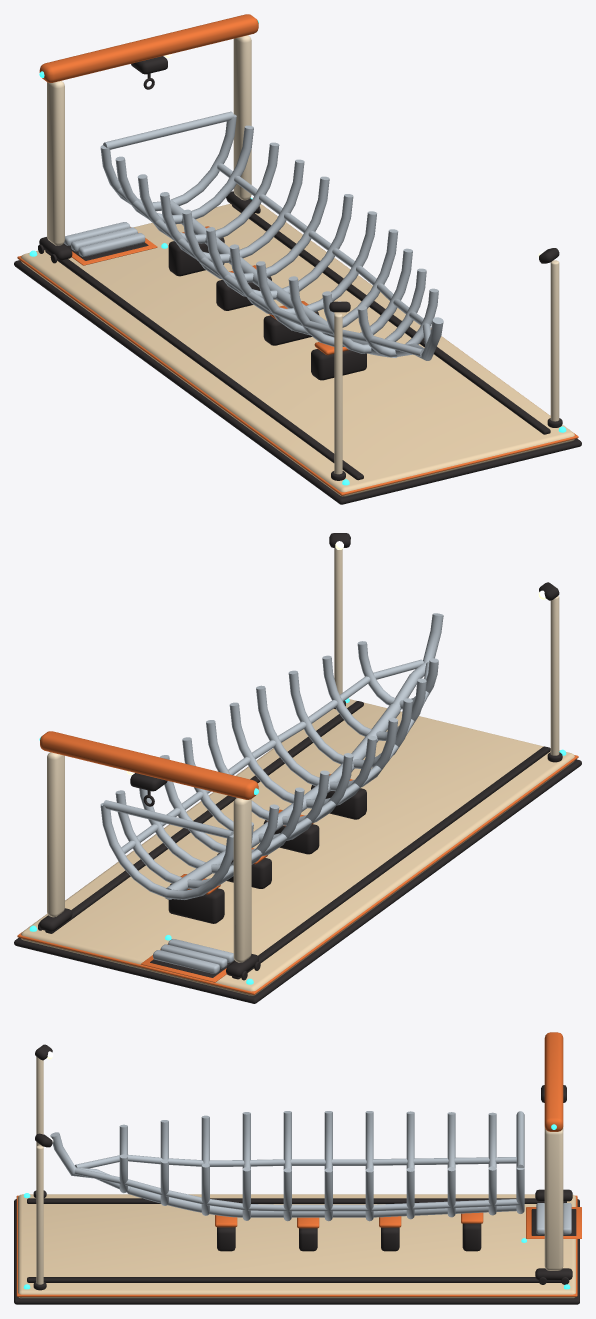
Rendered from dock-3.glb.
3 views of the same model, one above another, from view 1: azimuth 30°, elevation 25°; view 2: azimuth 150°, elevation 25°; view 3: azimuth 270°, elevation 25° (orthographic). The views are drawn at different scales.
Visible parts, largest first — view 1: Cube.001, Cube.021, Cube, Cube.016, Cube.002; view 2: Cube.001, Cube.021, Cube, Cube.016, Cube.002; view 3: Cube.001, Cube.021, Cube, Cube.002, Cube.016.
Part boxes in pixels (x1,y1,x2,y2): Cube.001: (21,203,574,496); Cube.021: (64,111,443,360); Cube: (14,56,581,504); Cube.016: (47,35,559,474); Cube.002: (17,14,578,495); Cube.001: (21,699,574,995); Cube.021: (100,613,443,973); Cube: (14,533,581,1003); Cube.016: (47,548,559,962); Cube.002: (17,731,578,994); Cube.001: (18,1194,575,1298); Cube.021: (50,1111,571,1234); Cube: (14,1044,579,1304); Cube.002: (16,1032,581,1296); Cube.016: (36,1057,563,1284).
Size of the model in its own units: 1.3 by 1.06 by 3.05.
